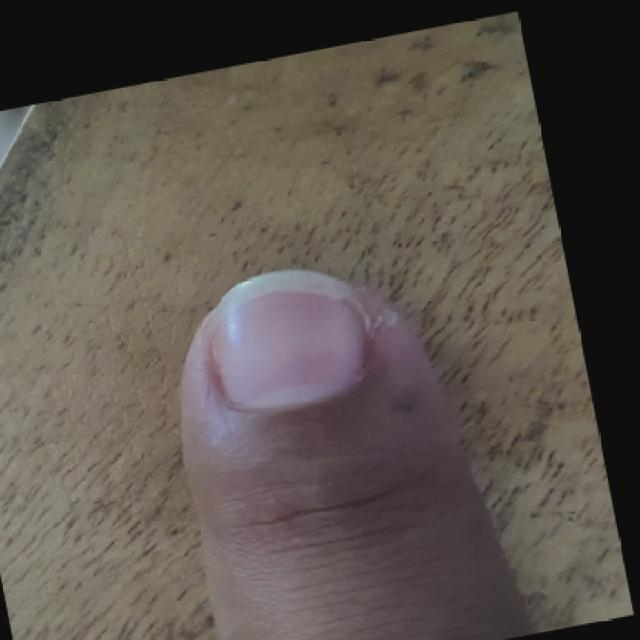Nail: (208, 270, 365, 411)
